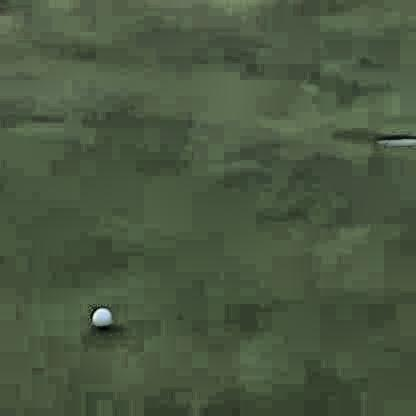golfball: (90, 302, 108, 324)
